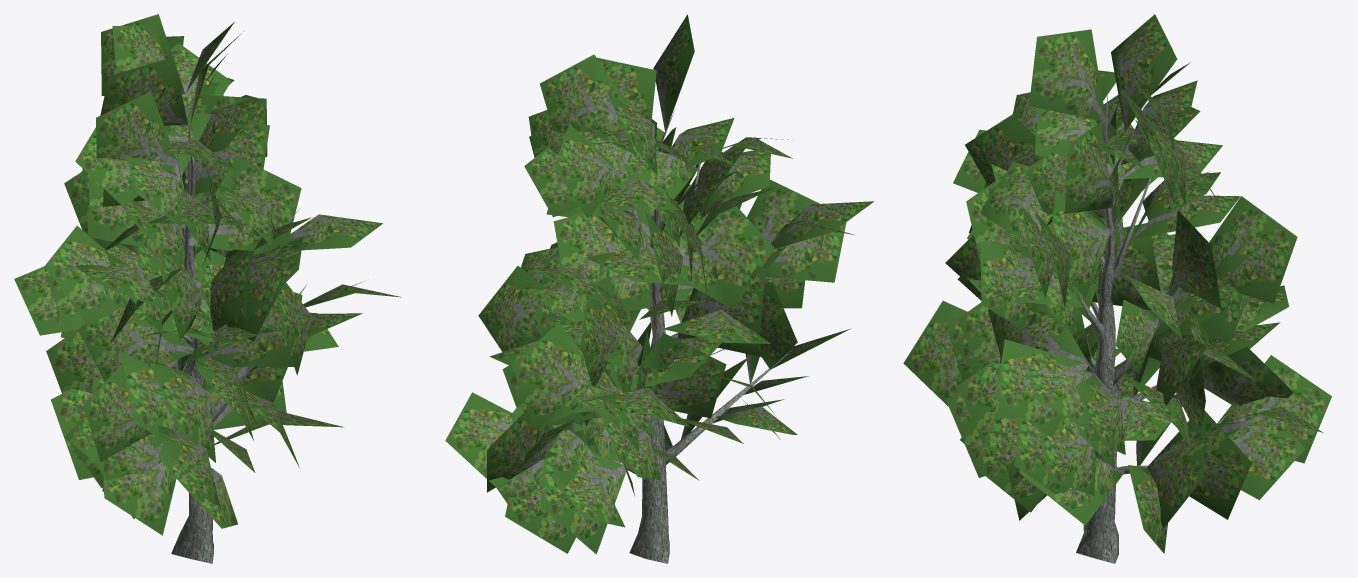
File: White_Oak_LowPoly.glb
3 renders of one model, left to right at view 1: azimuth 30°, elevation 25°; view 2: azimuth 150°, elevation 25°; view 3: azimuth 270°, elevation 25°, orthographic. The views are drawn at different scales.
Visible parts, largest first — view 1: White_Oak_Mobile_26; view 2: White_Oak_Mobile_26; view 3: White_Oak_Mobile_26.
Part boxes in pixels (x1=…): White_Oak_Mobile_26: x1=14, y1=14, x2=401, y2=563; White_Oak_Mobile_26: x1=445, y1=14, x2=873, y2=563; White_Oak_Mobile_26: x1=903, y1=14, x2=1331, y2=563.
Bounding box in the file's own units: 4.6 × 6.41 × 4.94.
2 materials, 2 textured.
